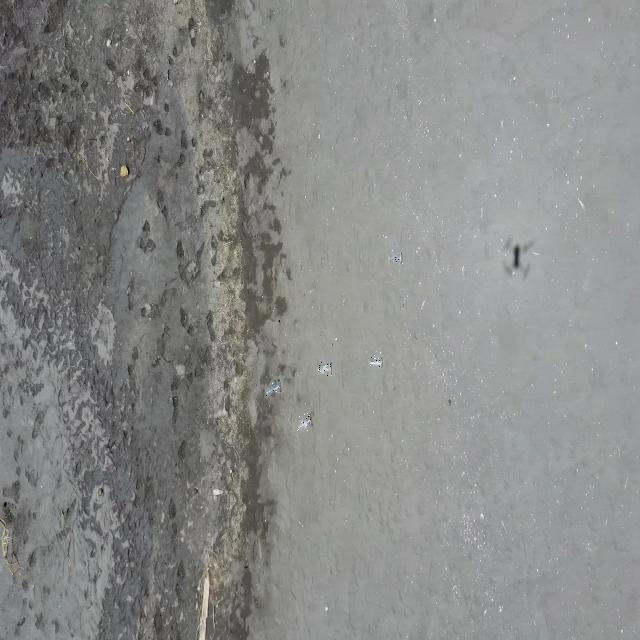takeaway-cup: (297, 413, 312, 431), (266, 380, 282, 396), (370, 355, 383, 371), (318, 362, 332, 376), (389, 250, 403, 264)
